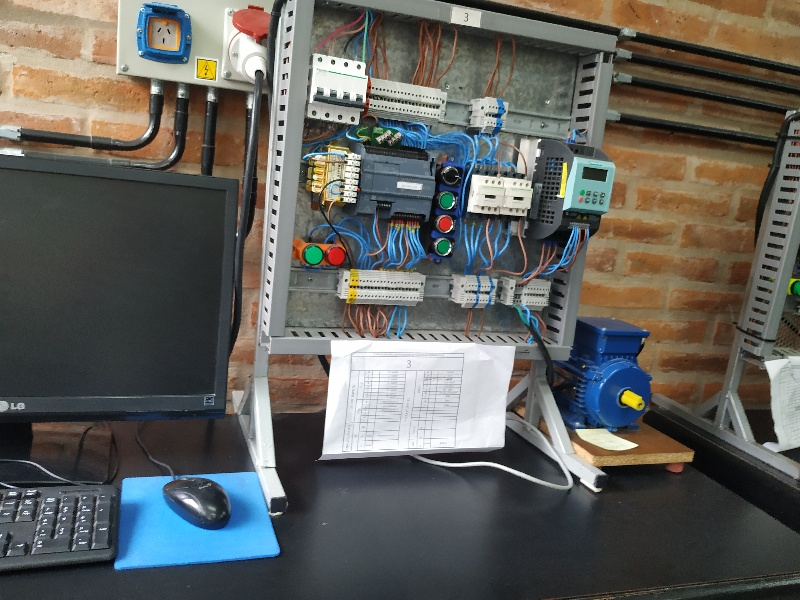Tablero 3: (294, 1, 615, 356)
